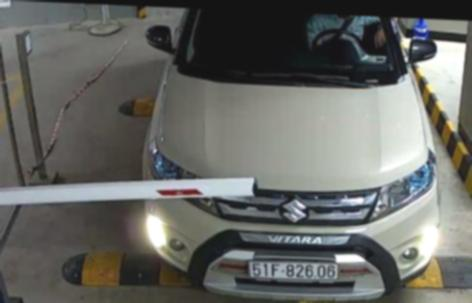License_Plate: (248, 256, 341, 287)
